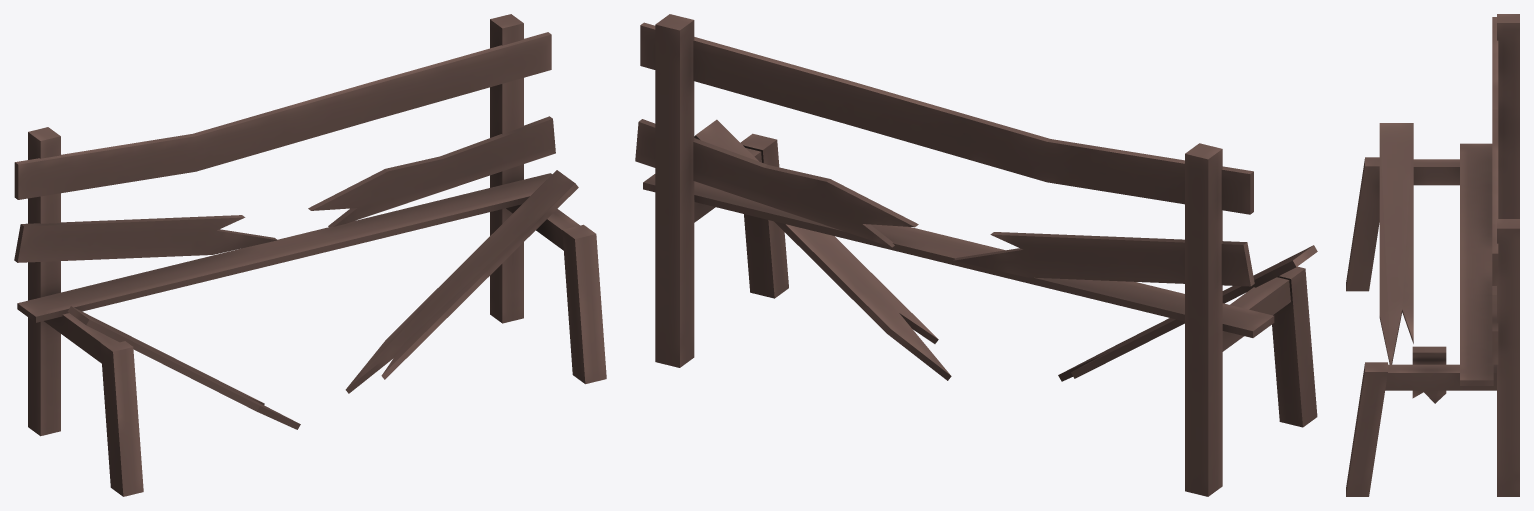
Rendered from Bench_0.fbx.
The picture shows the model from 3 angles, left to right: view 1: azimuth 30°, elevation 25°; view 2: azimuth 150°, elevation 25°; view 3: azimuth 270°, elevation 25°; orthographic projection. The views are drawn at different scales.
Parts seen in each view (by area): view 1: Bench_0; view 2: Bench_0; view 3: Bench_0.
Boxes of the visible parts, bbox=[...] form: Bench_0: bbox=[14, 14, 606, 496]; Bench_0: bbox=[635, 14, 1317, 496]; Bench_0: bbox=[1346, 14, 1519, 496].
Size of the model in its own units: 59.54 by 18.3 by 31.18.
1 material, 1 textured.
